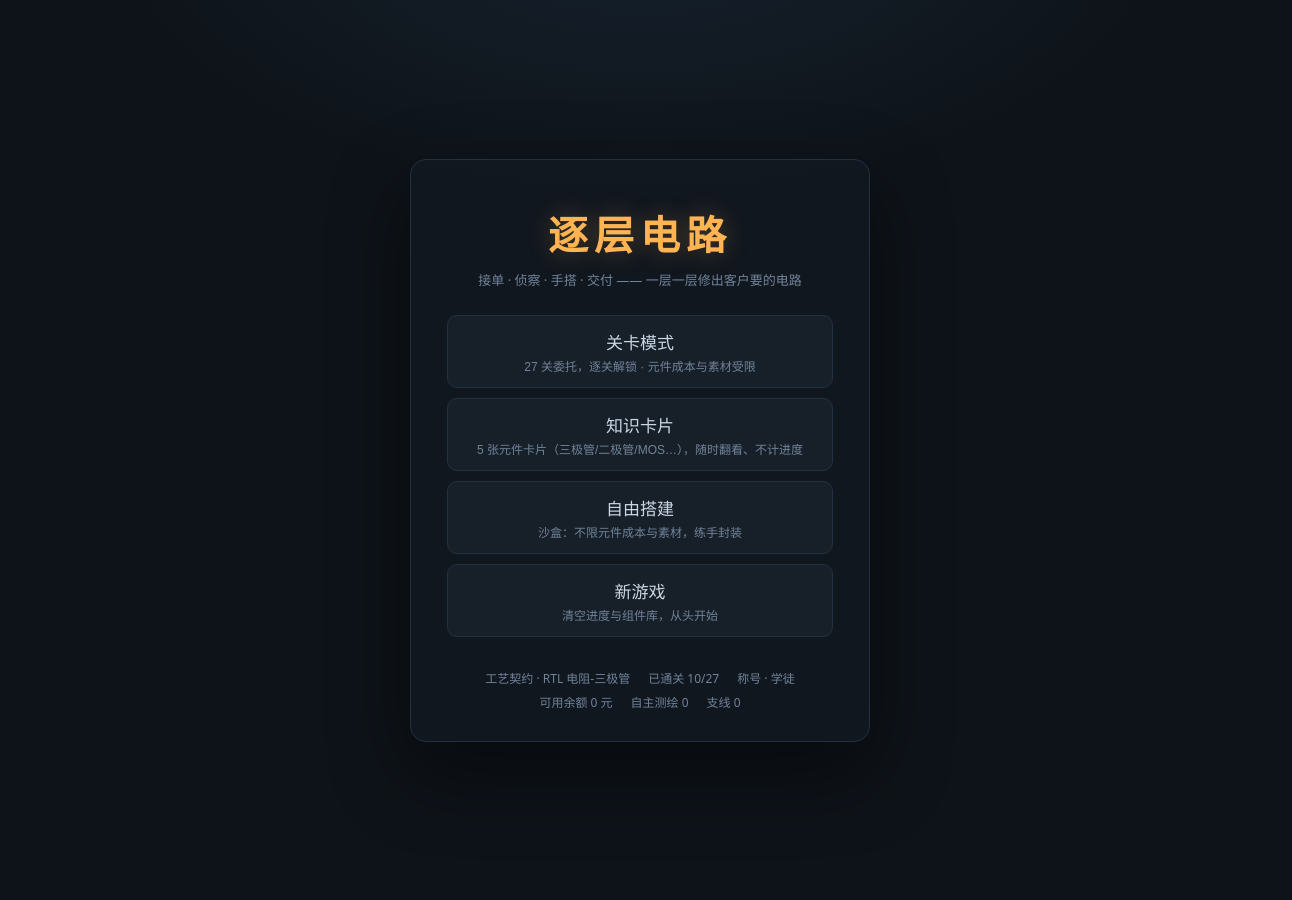
Test: 逻辑关基础门 = 本关清单（与库无关） › ⑤ 我的模块**不合并**同名：玩家两件同名作品两张卡（与基础门相反的口径）
The width and height of the screenshot is (1292, 900).
Click the button "关卡模式 27 关委托，逐关解锁 · 元件成本与素材受限" at point(640, 351), box [447,314,833,388]
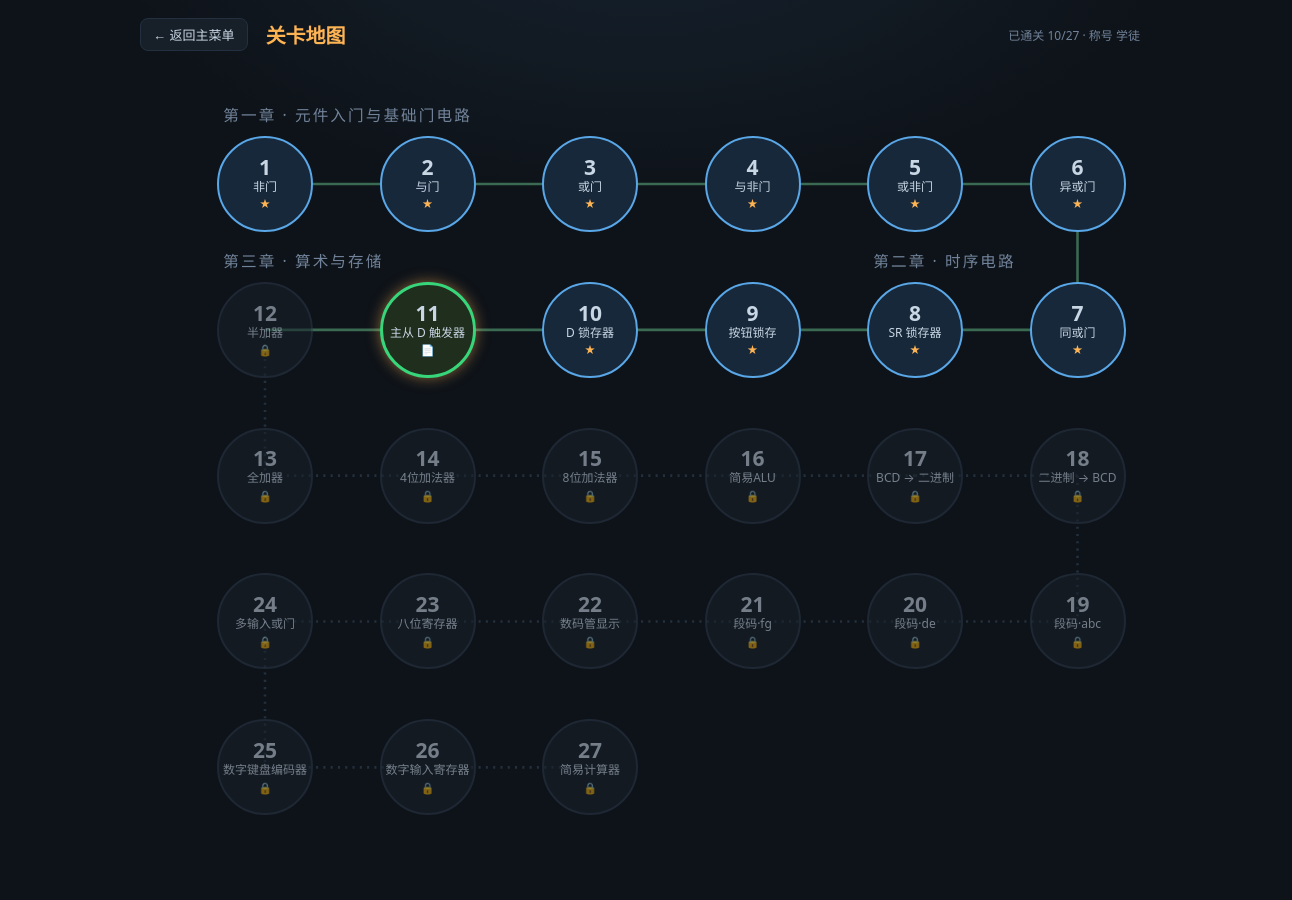
Click the text "主从 D 触发器" at point(428, 333), box [390,326,465,340]
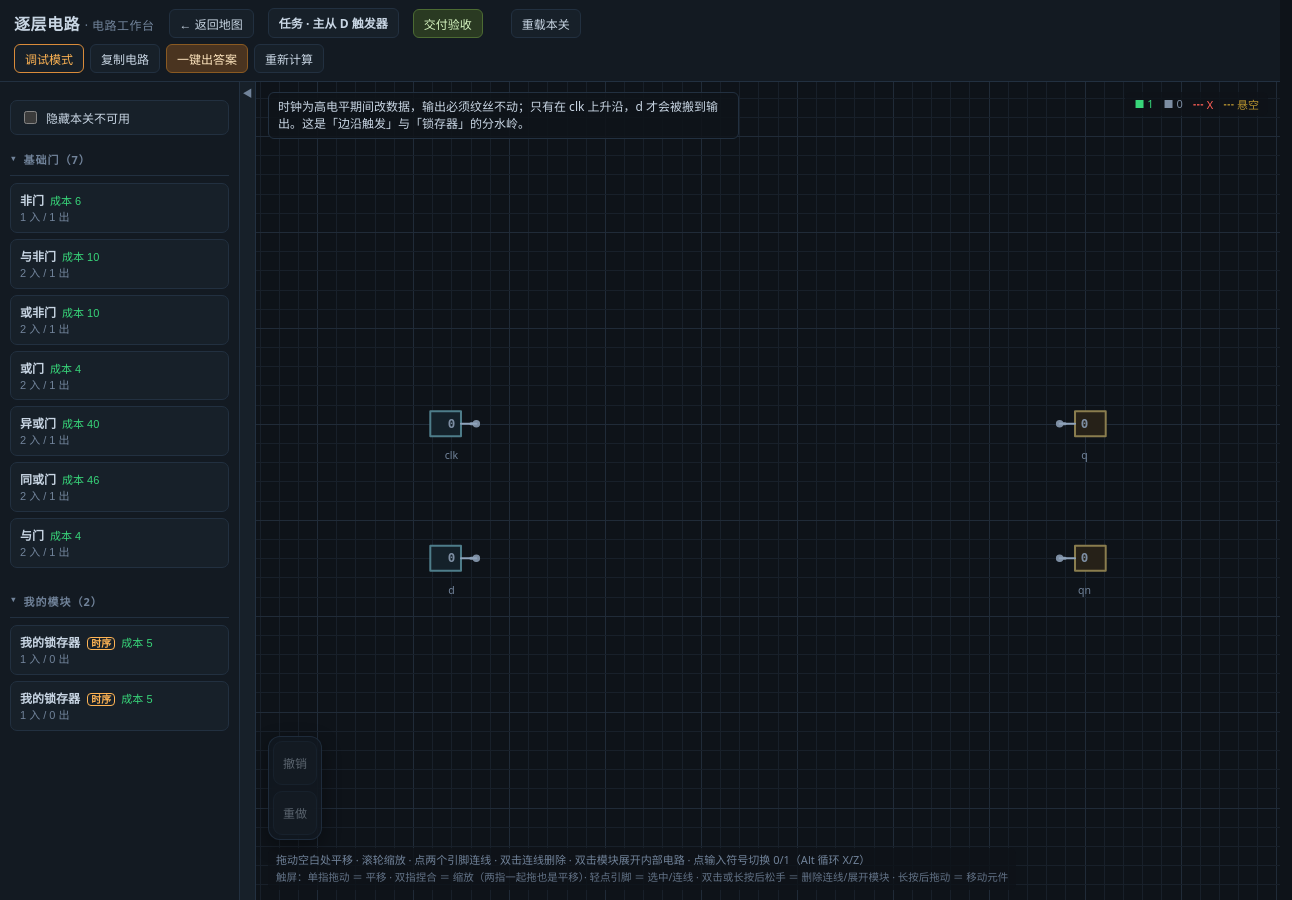
Expected: the element with class "legend" is shown, [1125,92,1268,116]
